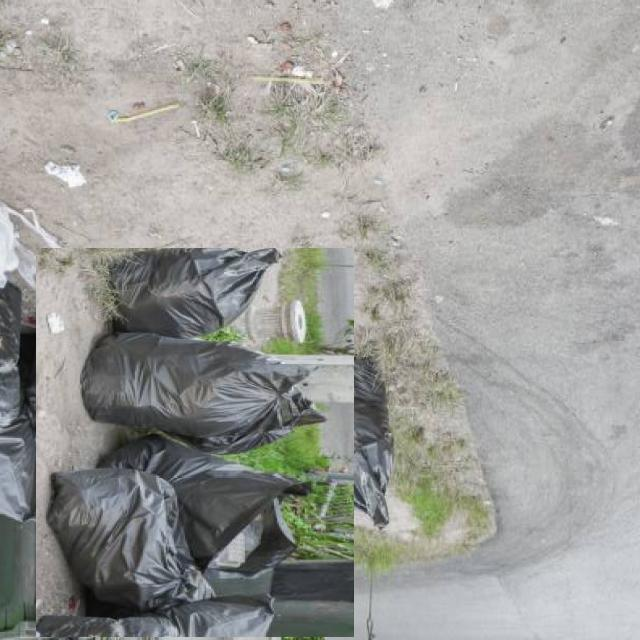garbage: (18, 266, 372, 620)
